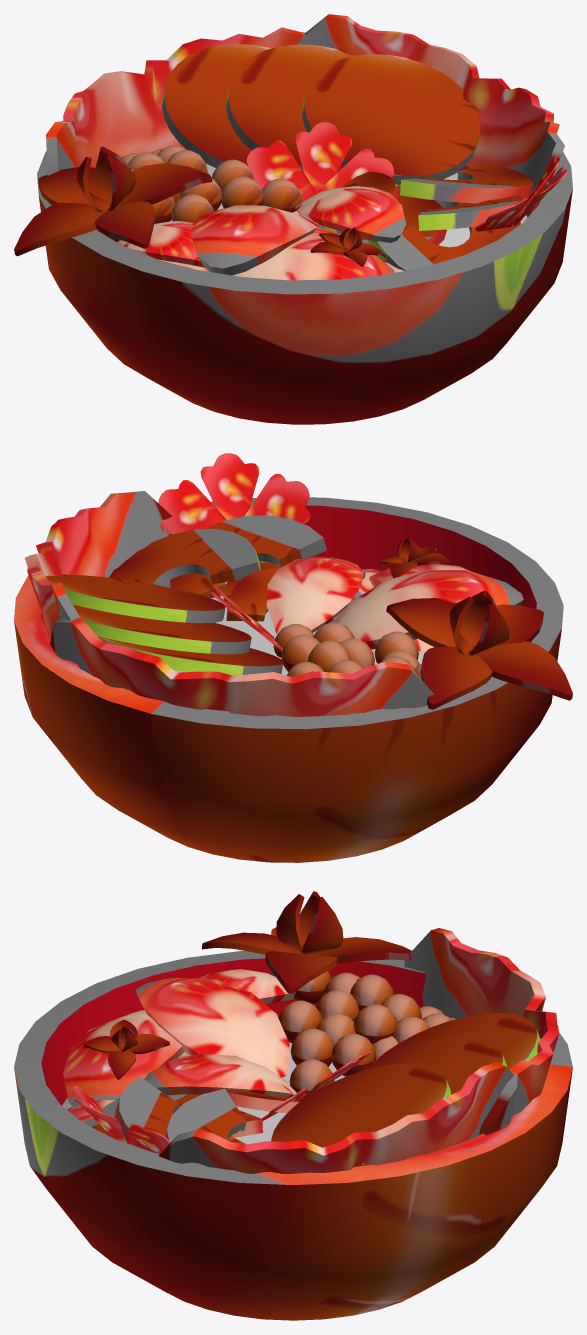
File: 2_4_poke.fbx
The picture shows the model from 3 angles, top to bottom: view 1: azimuth 30°, elevation 25°; view 2: azimuth 150°, elevation 25°; view 3: azimuth 270°, elevation 25°; orthographic projection. The views are drawn at different scales.
Parts seen in each view (by area): view 1: Plane.160; view 2: Plane.160; view 3: Plane.160.
Part boxes in pixels (<box>): Plane.160: <box>14,14,572,424</box>; Plane.160: <box>14,453,572,862</box>; Plane.160: <box>14,891,572,1320</box>.
Size of the model in its own units: 3.76 by 1.89 by 3.4.
